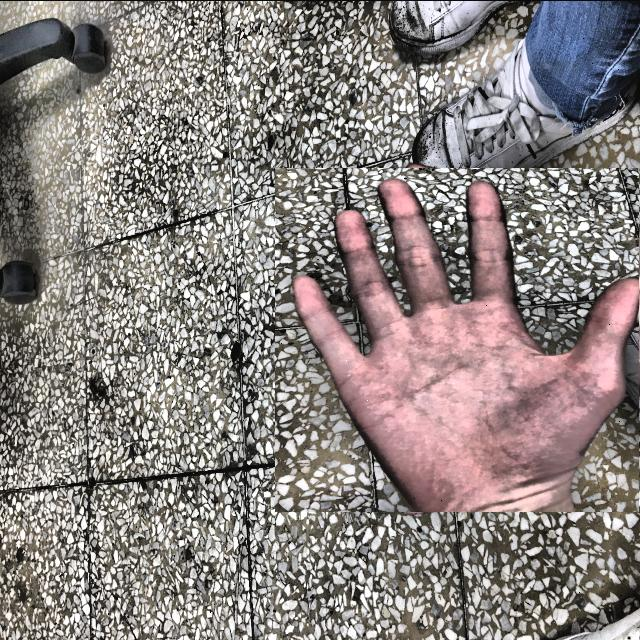not-gloved: (285, 157, 640, 522)
